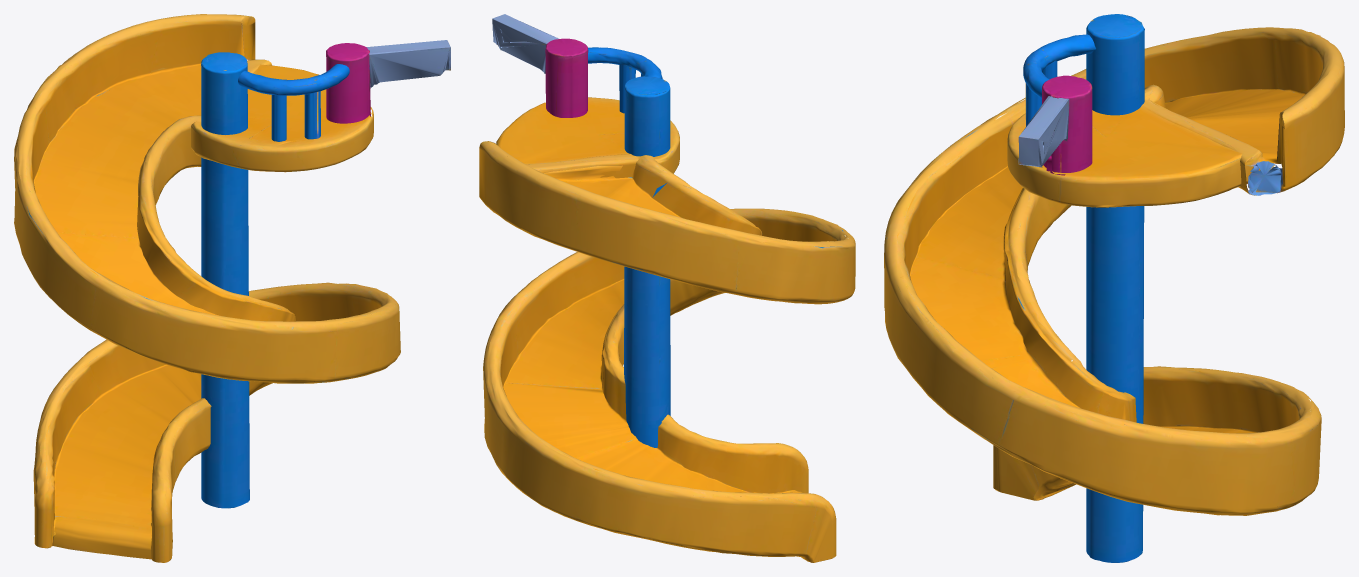
File: spiral_slide.glb
The picture shows the model from 3 angles, left to right: view 1: azimuth 30°, elevation 25°; view 2: azimuth 150°, elevation 25°; view 3: azimuth 270°, elevation 25°; orthographic projection. The views are drawn at different scales.
Size of what is drawn, in the model's own units: 0.9103 by 1 by 0.7945.
Materials: 1 (1 with a texture image).
